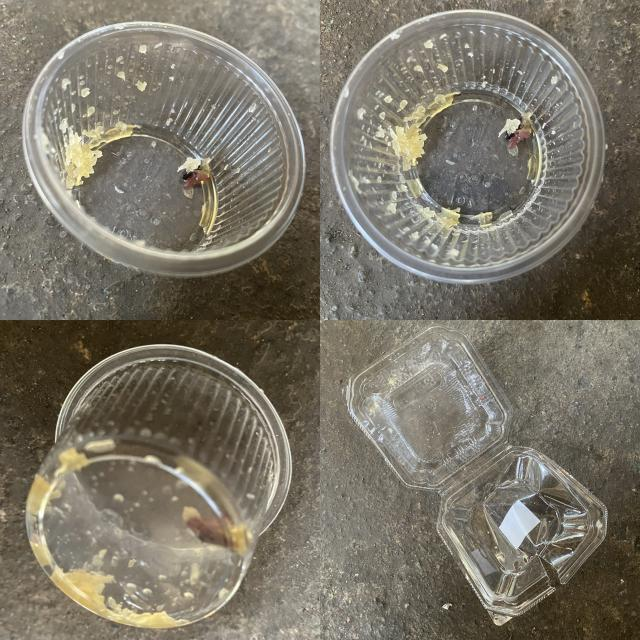Single-Use-Plastic: (340, 325, 606, 625), (26, 345, 290, 628), (331, 10, 605, 282), (22, 22, 304, 276)
